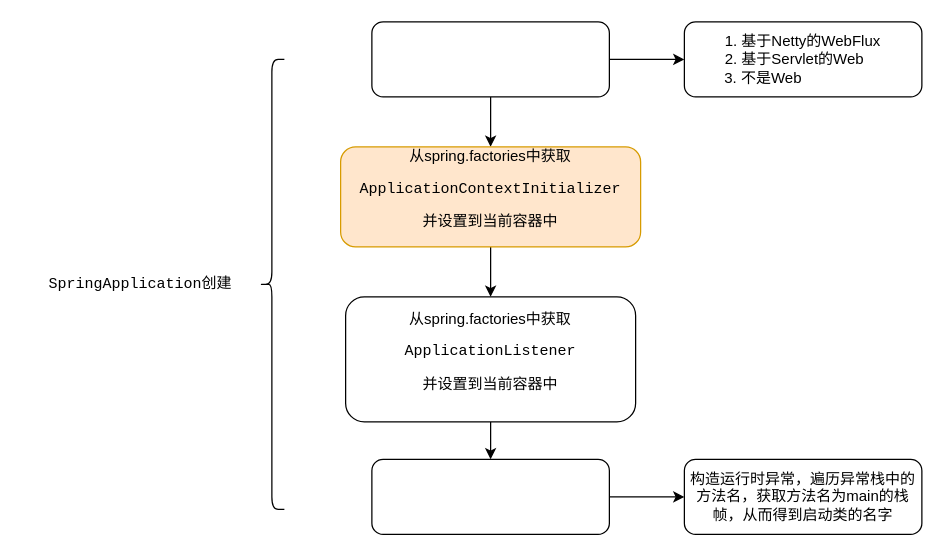
The diagram is 944 pixels wide and 556 high, and some of its shapes have lost their labels. Here are the shapes that lost their labels. From the top down, the centre of each, then its label:
(x=490, y=59): 推断Web容器类型
(x=490, y=496): 推断启动类
